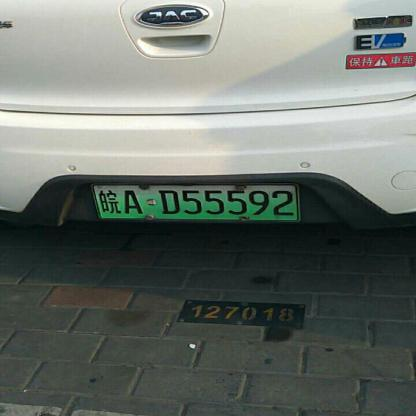lp: (93, 185, 297, 218)
